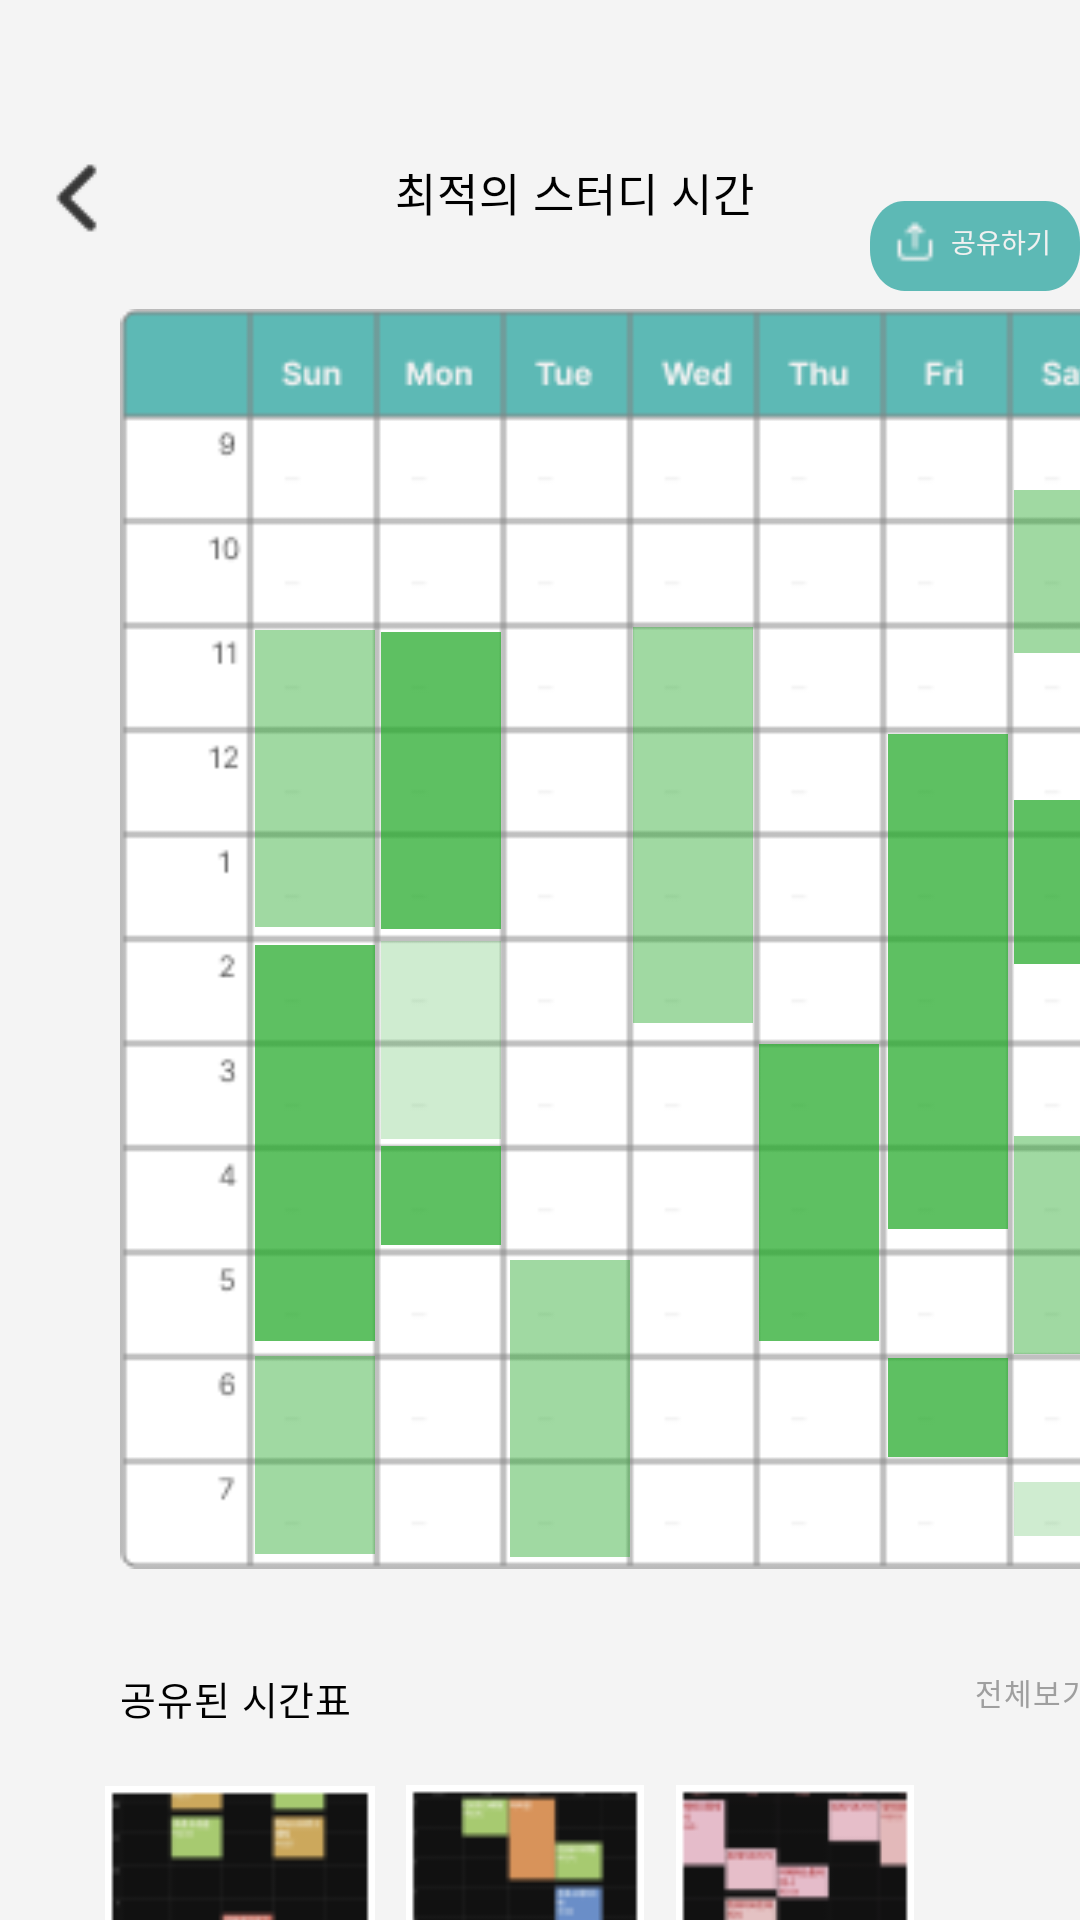

Locate icon controls on the screen. Image size 1080px x 1920px, boxes as (x1, y1, x2, y2).
chevron: (56, 164, 97, 232)
